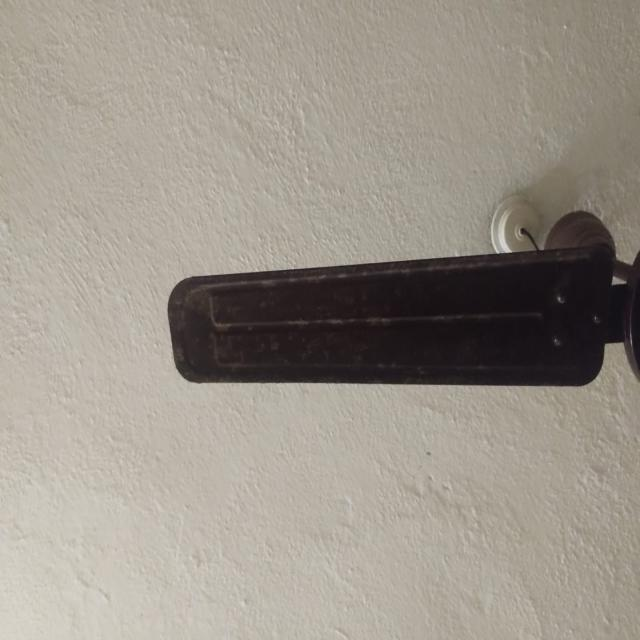fan_off: (170, 208, 640, 388)
